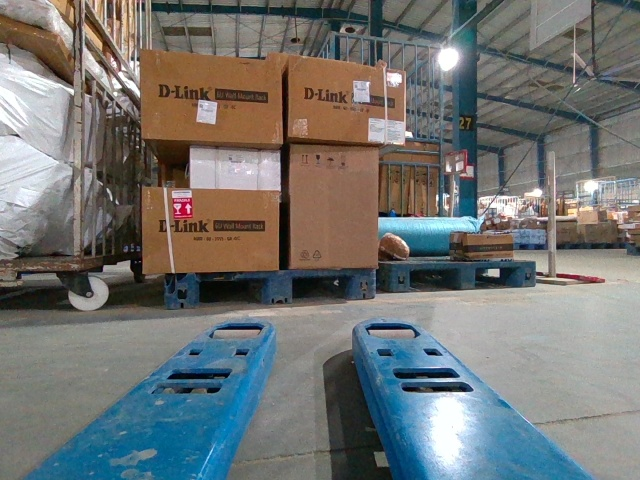block: (162, 273, 201, 307), (266, 270, 295, 305), (353, 267, 377, 301), (390, 264, 410, 290), (456, 262, 476, 287), (520, 261, 537, 286)
front: (164, 269, 376, 310), (390, 262, 535, 289)
hole pallet: (195, 270, 268, 303), (292, 270, 356, 302), (407, 266, 463, 288), (471, 265, 524, 287)
